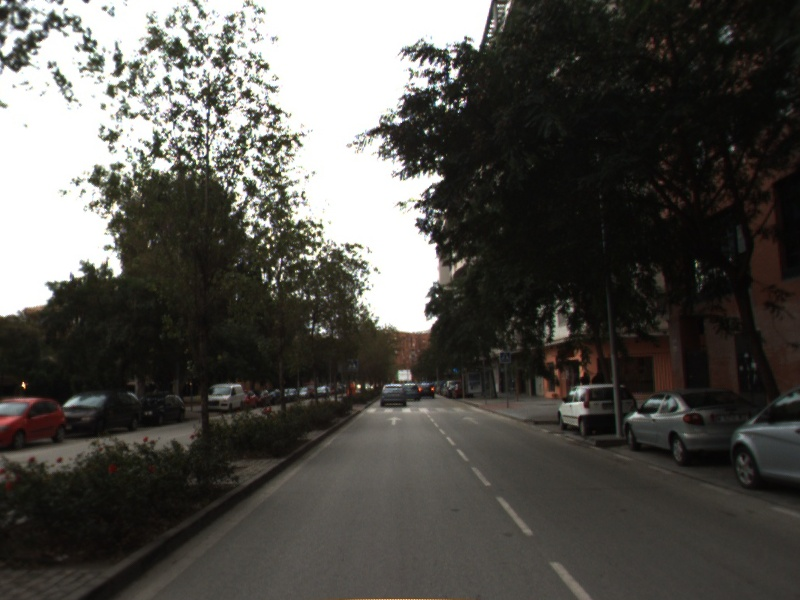STRAIGHT: (460, 414, 483, 426), (384, 415, 405, 427)
